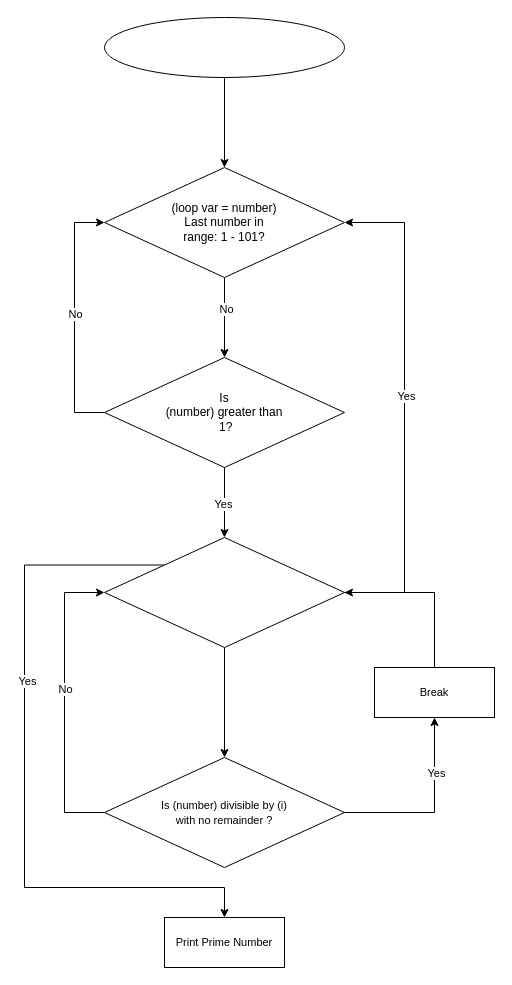
This 512x985 diagram has some shape labels left out. The box of each missing label's shape, as (x1, y1, x2, y2) in pixels:
(loop var = i) Last number in range: 2 and (number) ?: (104, 536, 344, 648)
Start: (104, 16, 344, 78)
